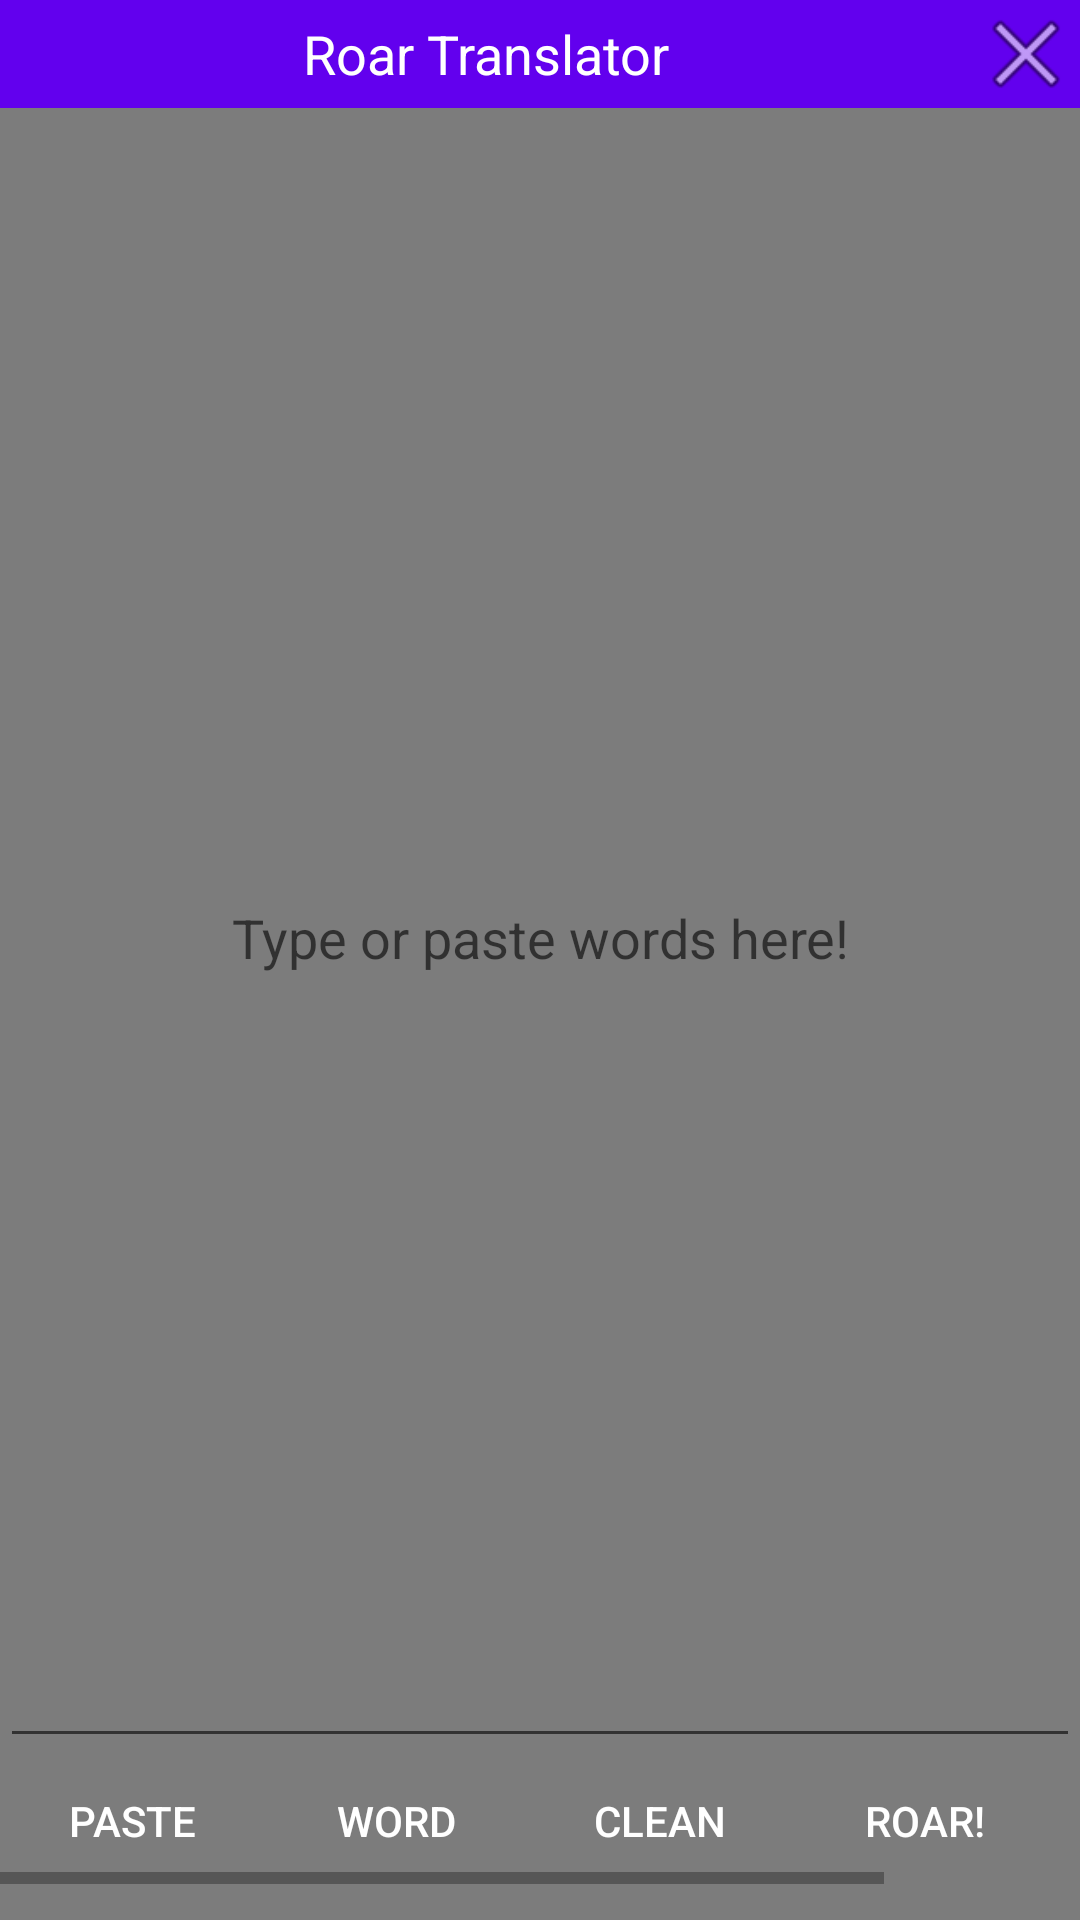

Named icons in this screenshot (1080×1920) and their bounding boxes, (x1, y1, x2, y2):
close clear cancel: (992, 20, 1060, 88)
